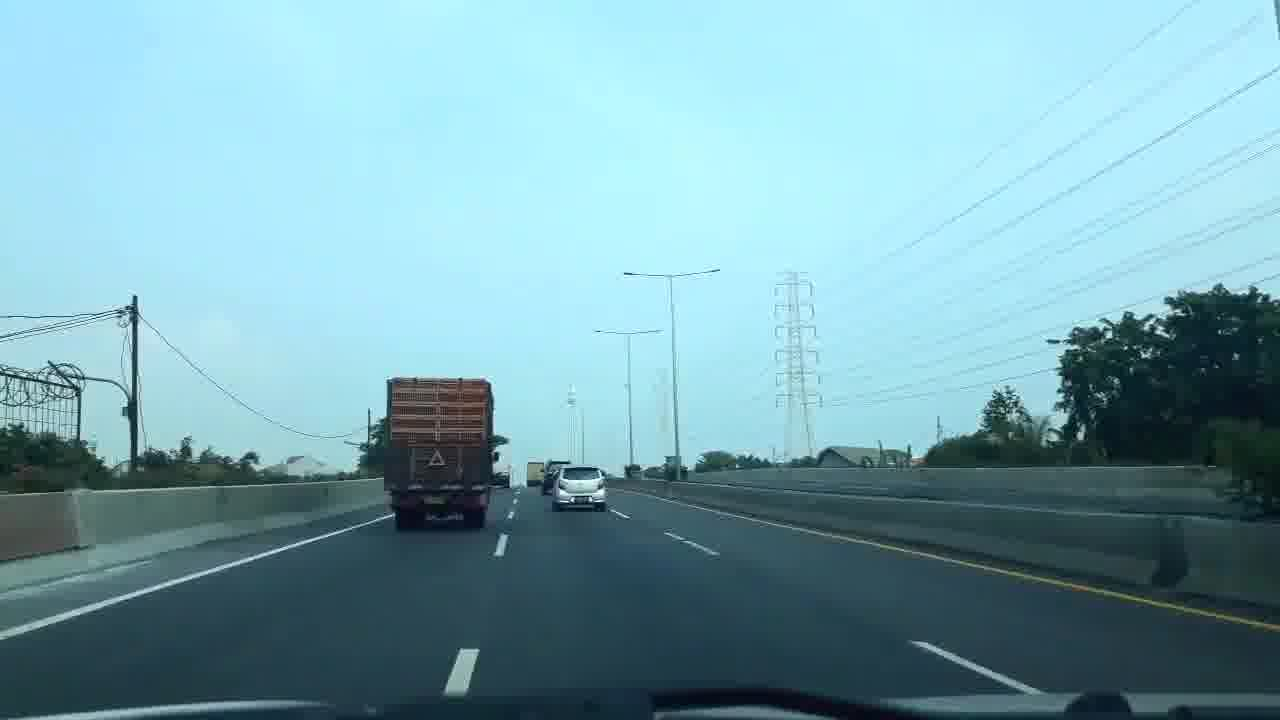plate_positive: (423, 495, 449, 504), (575, 496, 589, 503)
